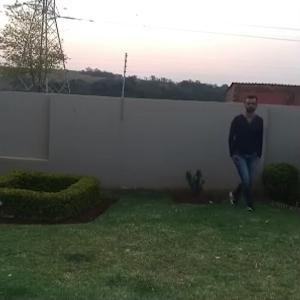follow: (219, 95, 266, 202)
